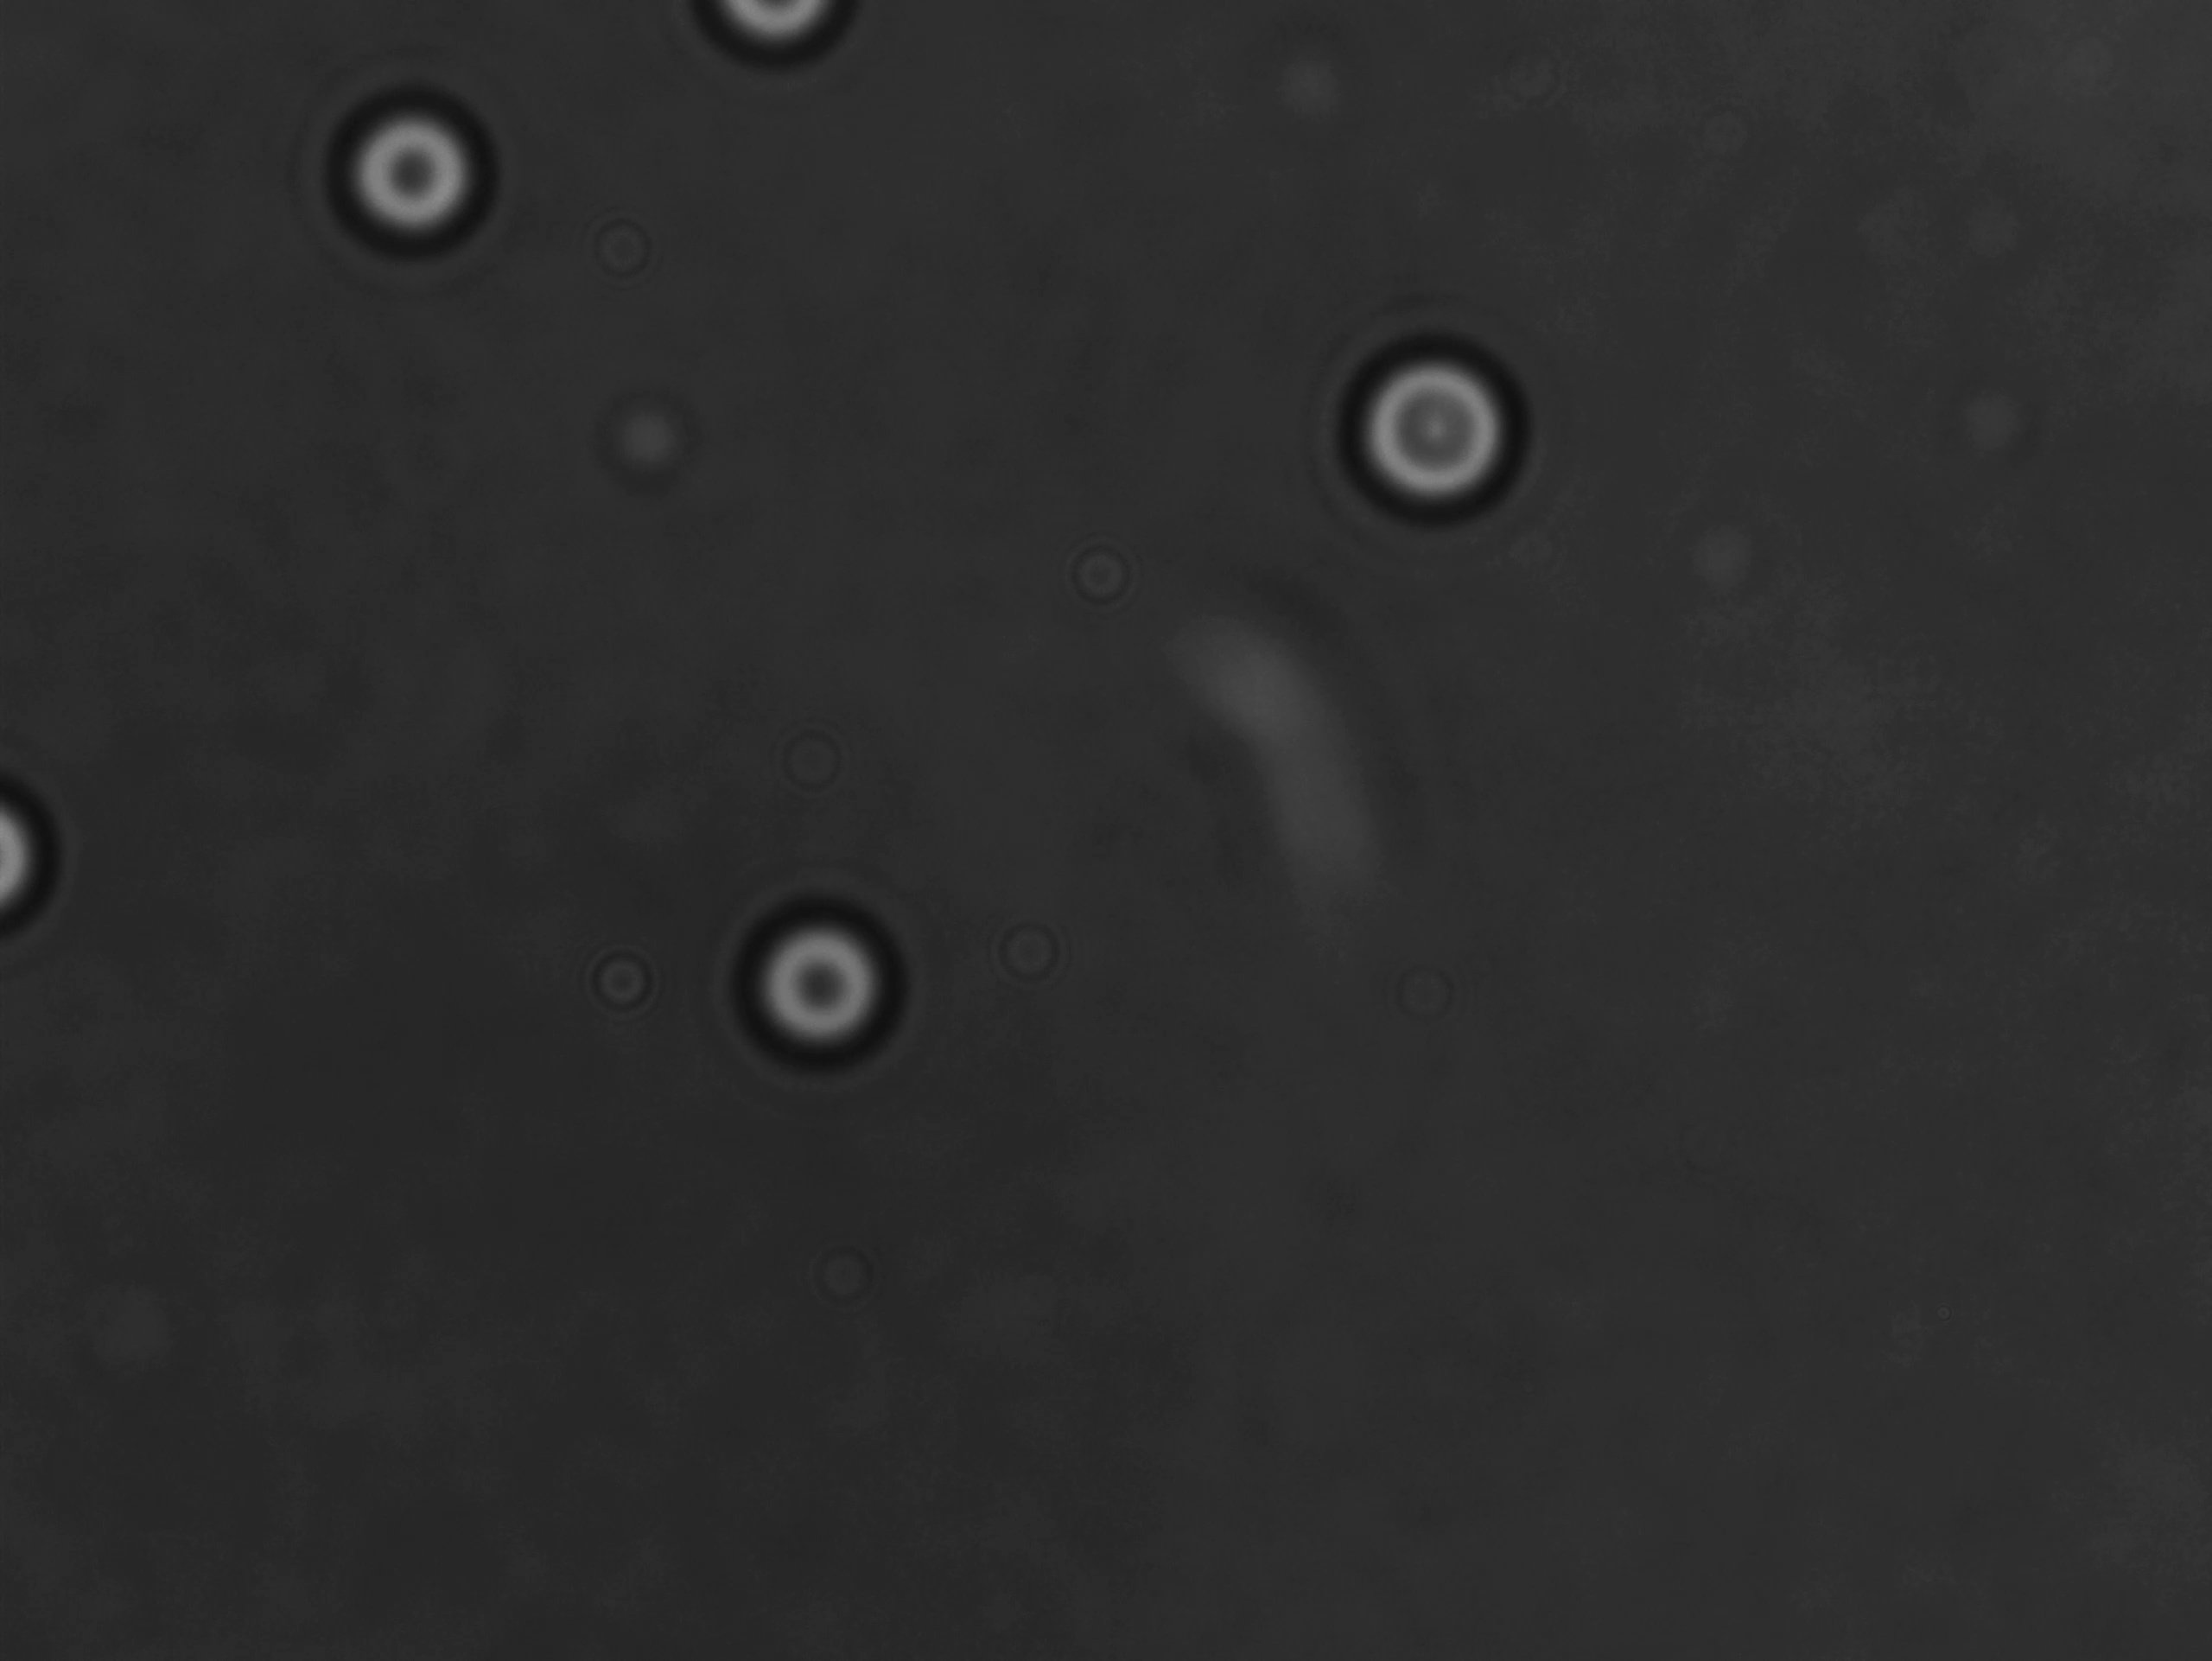depth:60: (1340, 323, 1556, 539)
depth:80: (717, 867, 942, 1068), (328, 79, 523, 270)
